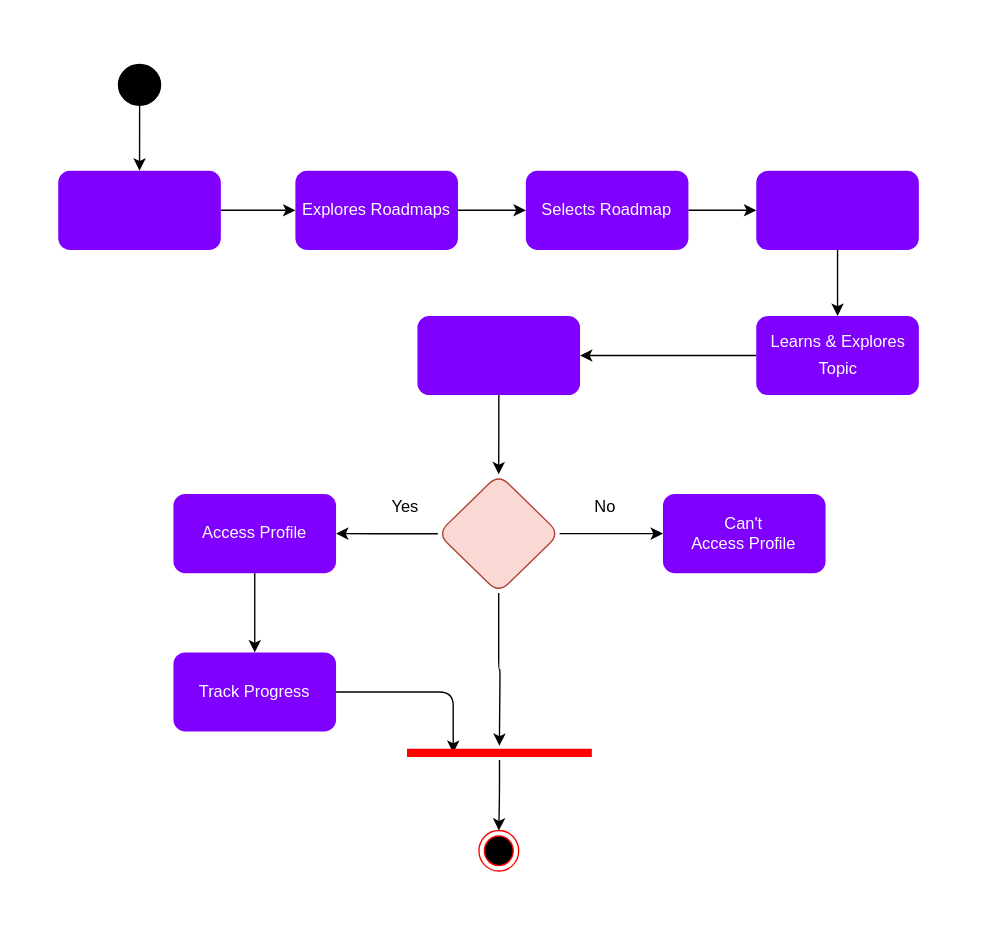
Image size: 997x937. Some labels were removed from this diagram. Here are the shapes that lost their labels. From the top down, the centre of each, then its label:
At [139,209]: "Visits Website".
At [837,209]: "Selects Topic".
At [498,354]: "Completed Topics".
At [498,533]: "Signup or Logged In".
